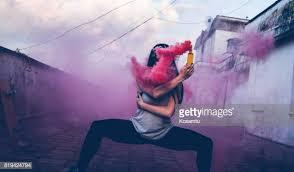smoke: (111, 35, 193, 80)
